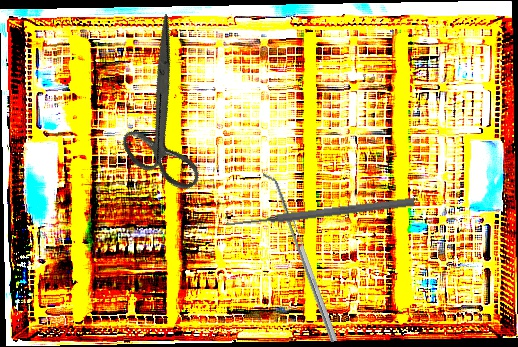Iris Scissors: (75, 13, 252, 208)
Pusher: (224, 195, 416, 231)
Spatula Surgical: (262, 169, 338, 345)
